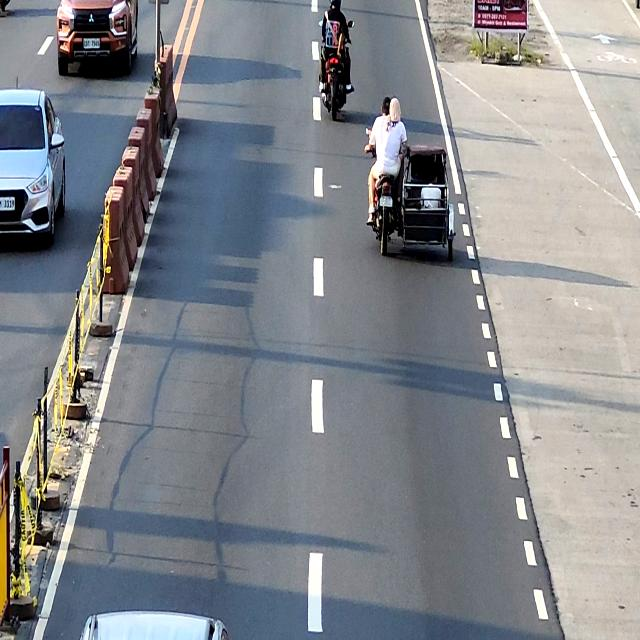Car: (0, 89, 66, 244), (56, 0, 139, 76)
License-Plate: (0, 197, 15, 210), (84, 38, 100, 50), (380, 195, 392, 208)
Motorcycle: (318, 17, 356, 121)
Tricycle: (367, 128, 456, 260)
